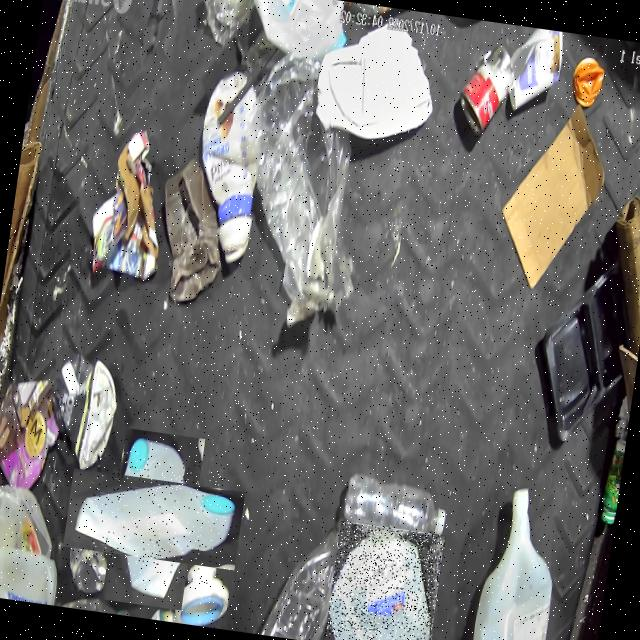milk-jug: (82, 446, 224, 590), (323, 519, 445, 640)
